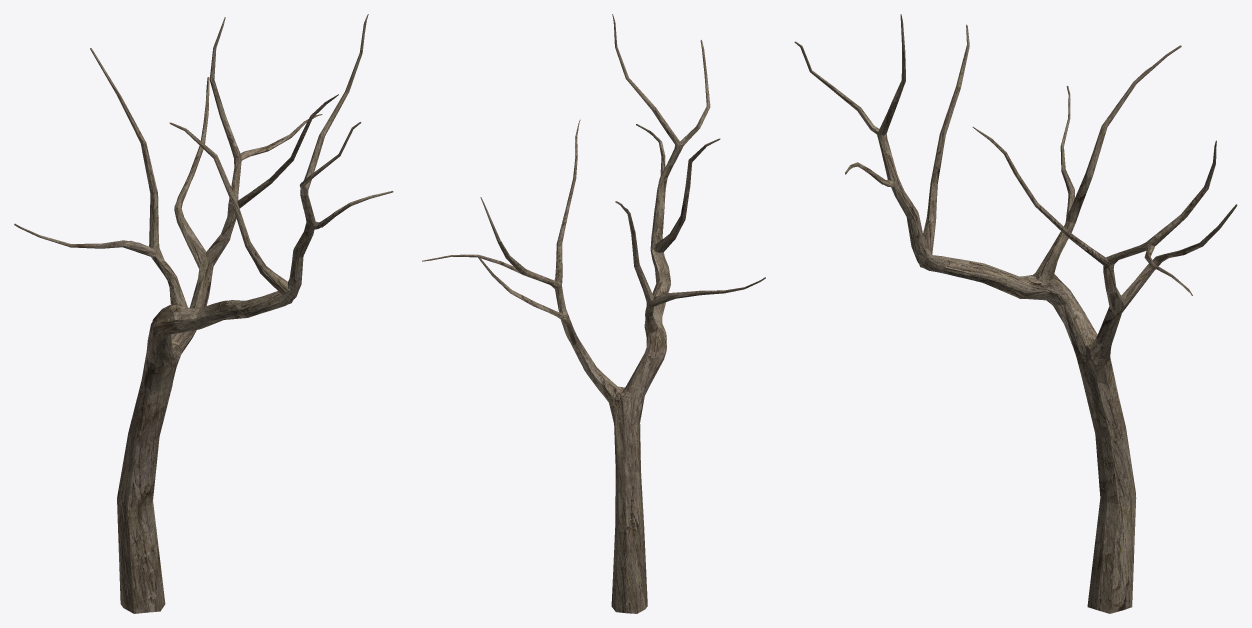
Rendered from 1_TREE_TRUNK_01_6-transformed.glb.
3 views of the same model, side by side, from view 1: azimuth 30°, elevation 25°; view 2: azimuth 150°, elevation 25°; view 3: azimuth 270°, elevation 25° (orthographic). The views are drawn at different scales.
Parts seen in each view (by area): view 1: default; view 2: default; view 3: default.
Boxes of the visible parts, bbox=[...] form: default: bbox=[14, 14, 393, 613]; default: bbox=[422, 14, 765, 613]; default: bbox=[794, 14, 1237, 613].
Bounding box in the file's own units: 6.87 × 11.32 × 6.98.
1 material, 1 textured.
